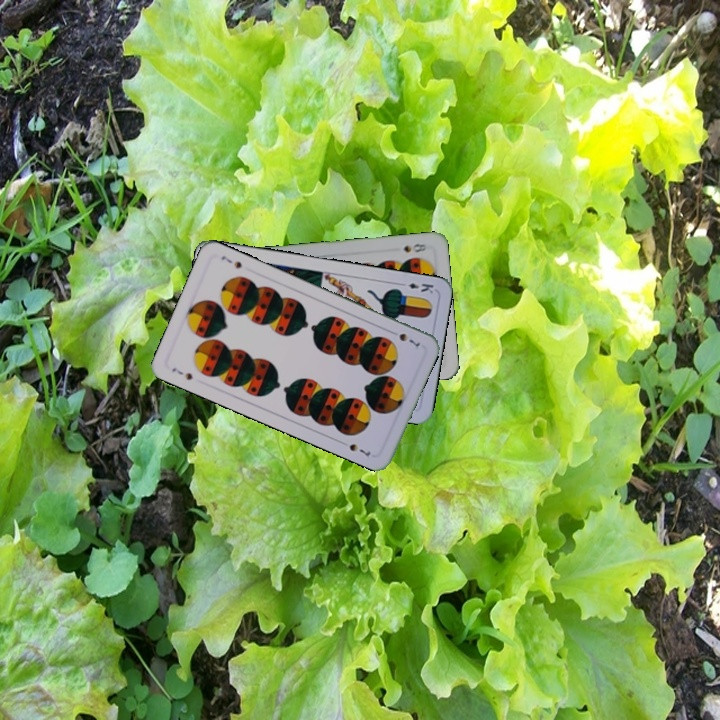EK: (396, 279, 436, 296)
S7: (386, 326, 423, 349), (168, 364, 195, 383)
S8: (399, 240, 429, 255)
